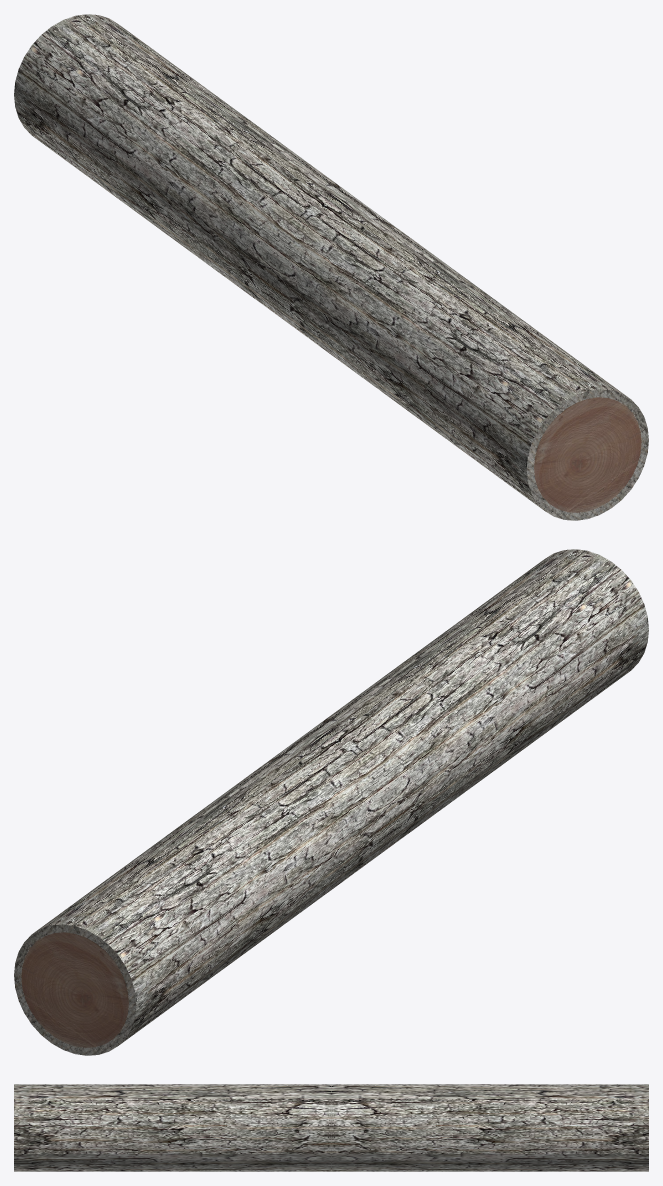
The model's file is tree.glb.
3 views of the same model, one above another, from view 1: azimuth 30°, elevation 25°; view 2: azimuth 150°, elevation 25°; view 3: azimuth 270°, elevation 25° (orthographic). The views are drawn at different scales.
Parts seen in each view (by area): view 1: tree_trunk; view 2: tree_trunk; view 3: tree_trunk.
Boxes of the visible parts, <box> form: tree_trunk: <box>14,14,648,520</box>; tree_trunk: <box>14,549,648,1055</box>; tree_trunk: <box>14,1084,648,1171</box>.
Size of the model in its own units: 0.9253 by 0.9253 by 6.72.
Materials: 2 (2 with a texture image).
